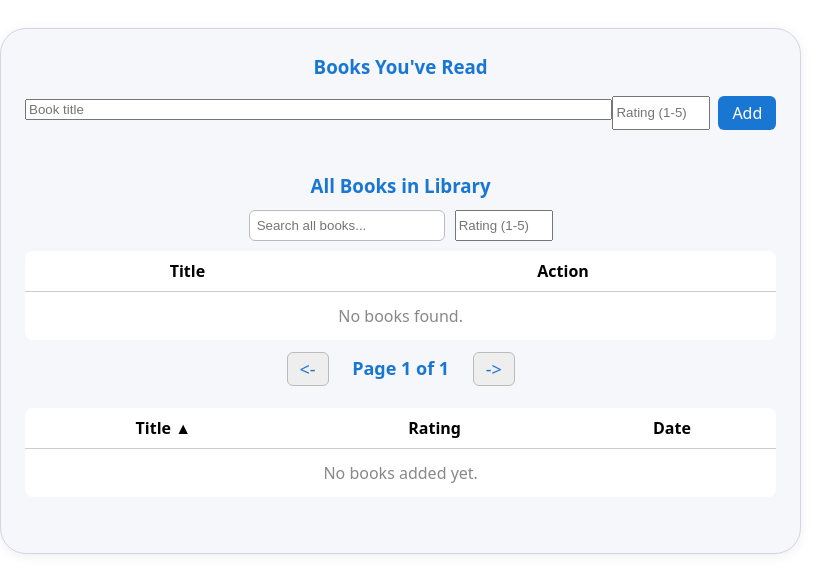
Scenario: UserReadBooks › shows success message when book is added
In the field with placeholder "Book title": {"x": 319, "y": 109} [25,98,612,120], type "Book B"
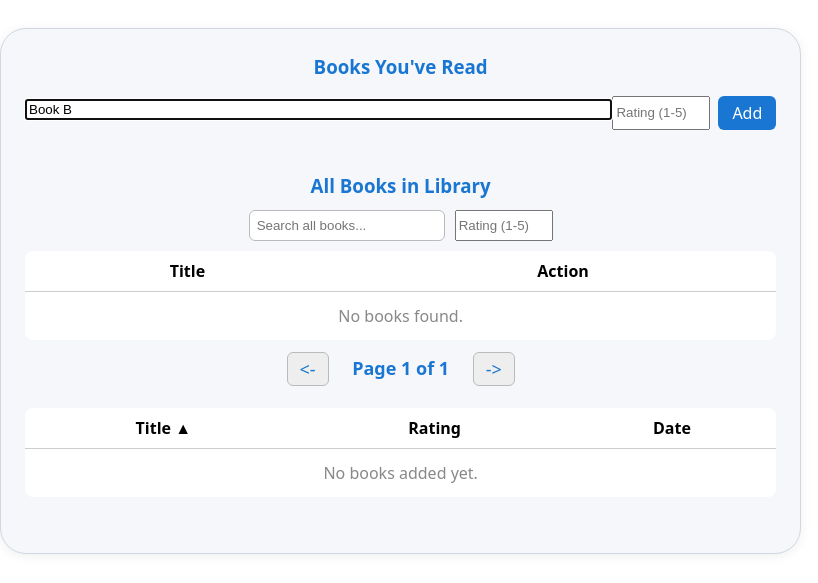
In the 1st number field with placeholder "Rating (1-5)": {"x": 661, "y": 112} [612,96,710,130], type "4"
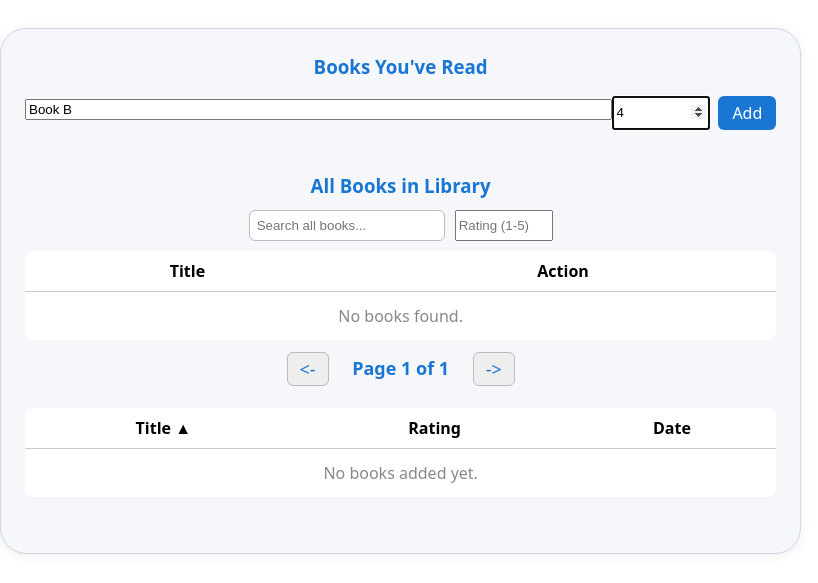
Click the button "Add": {"x": 747, "y": 112} [718,96,776,130]
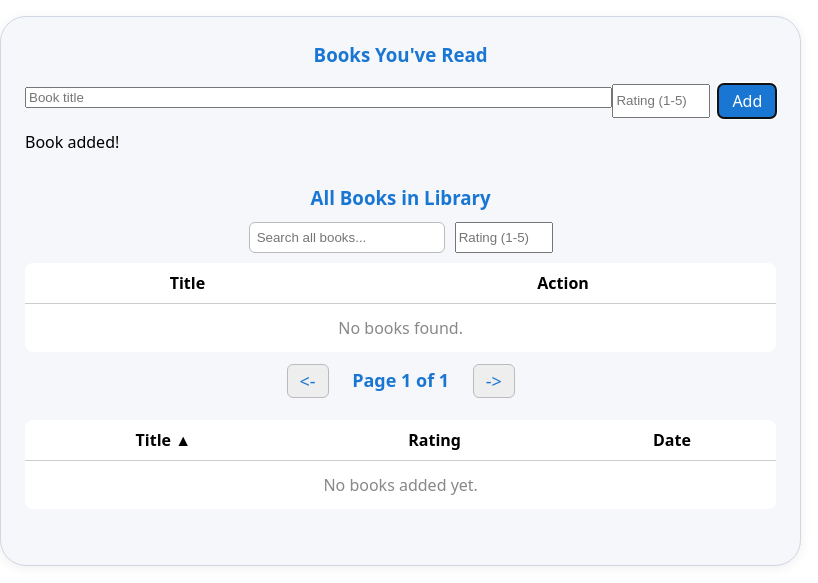
Result: the text "Book added!" is shown at [25,130,119,152]
